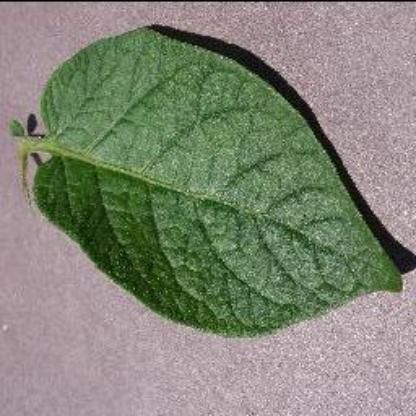Healthy-plant: (6, 26, 404, 340)
